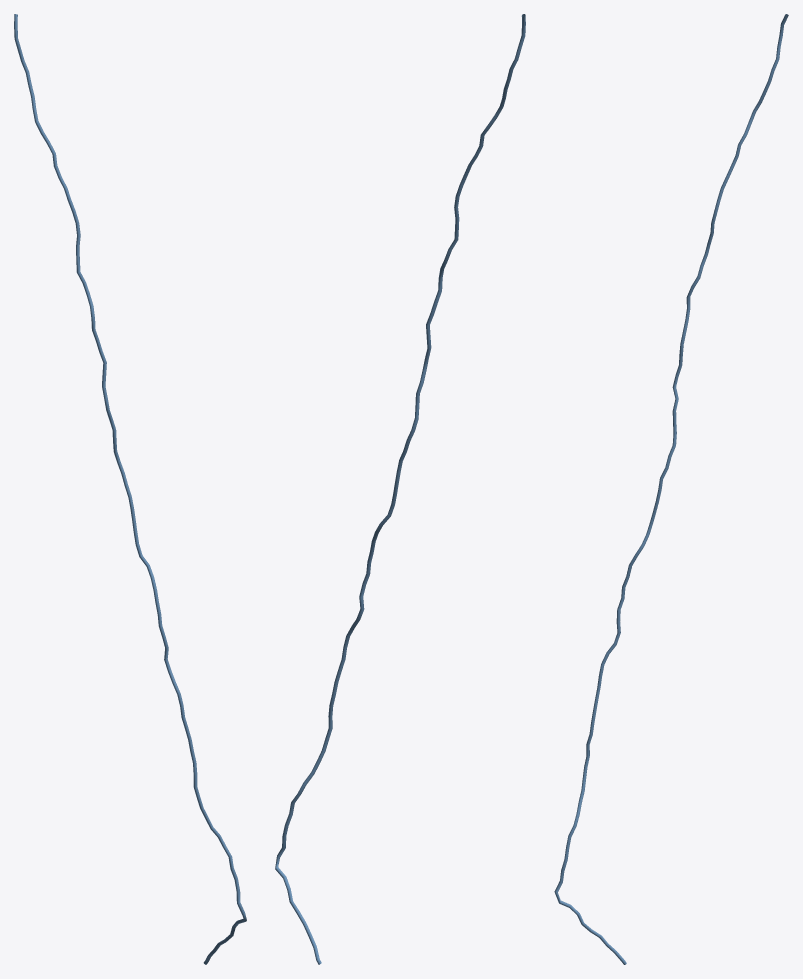
The model's file is sweep295.fbx.
3 views of the same model, side by side, from view 1: azimuth 30°, elevation 25°; view 2: azimuth 210°, elevation 25°; view 3: azimuth 270°, elevation 25° (orthographic). The views are drawn at different scales.
Parts seen in each view (by area): view 1: sweep295; view 2: sweep295; view 3: sweep295.
Part boxes in pixels (x1=…): sweep295: x1=14, y1=14, x2=246, y2=964; sweep295: x1=275, y1=14, x2=525, y2=964; sweep295: x1=554, y1=14, x2=788, y2=964.
Bounding box in the file's own units: 0.7479 × 5.49 × 1.3.
